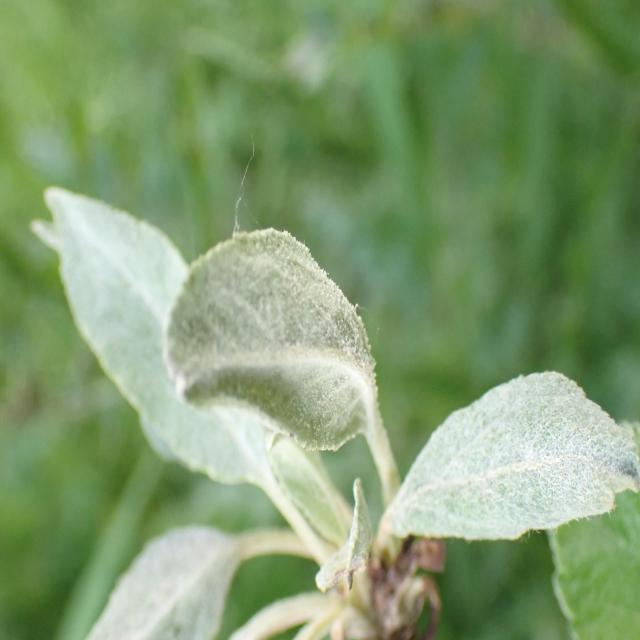Powdery_mildew: (31, 173, 305, 524), (168, 214, 388, 493), (368, 362, 640, 570), (44, 518, 316, 640)
